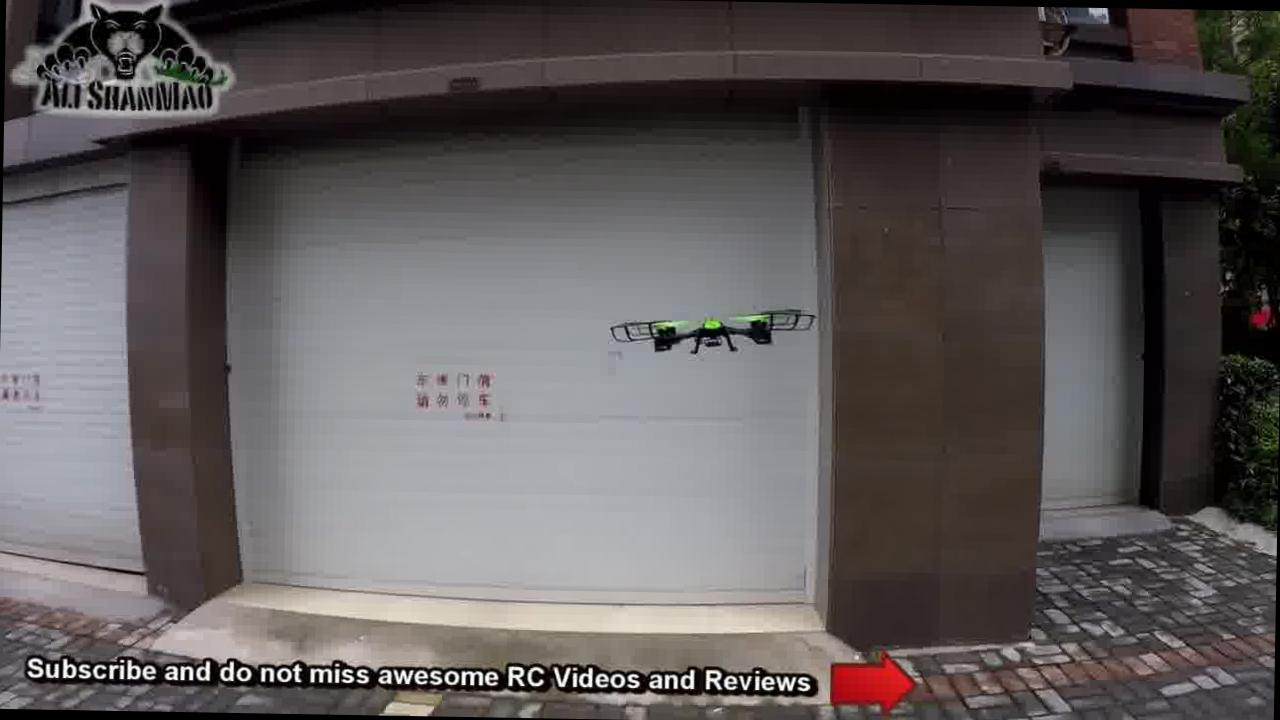drone: (609, 296, 824, 360)
